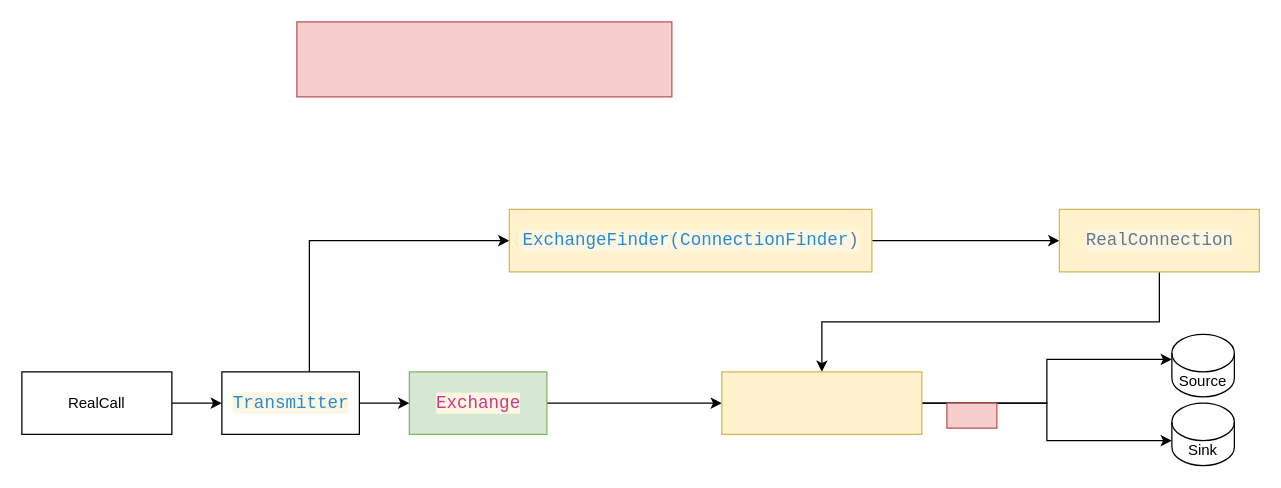
Some shapes in this 1281 by 488 pixel diagram are drawn without their labels. The box of each missing label's shape, as (x1, y1, x2, y2) in pixels:
ExchangeCodec: (721, 371, 922, 434)
真实IO: (946, 402, 997, 428)
简化几个关键类的依赖关系,图示箭头表示调用关系.: (296, 21, 672, 97)
